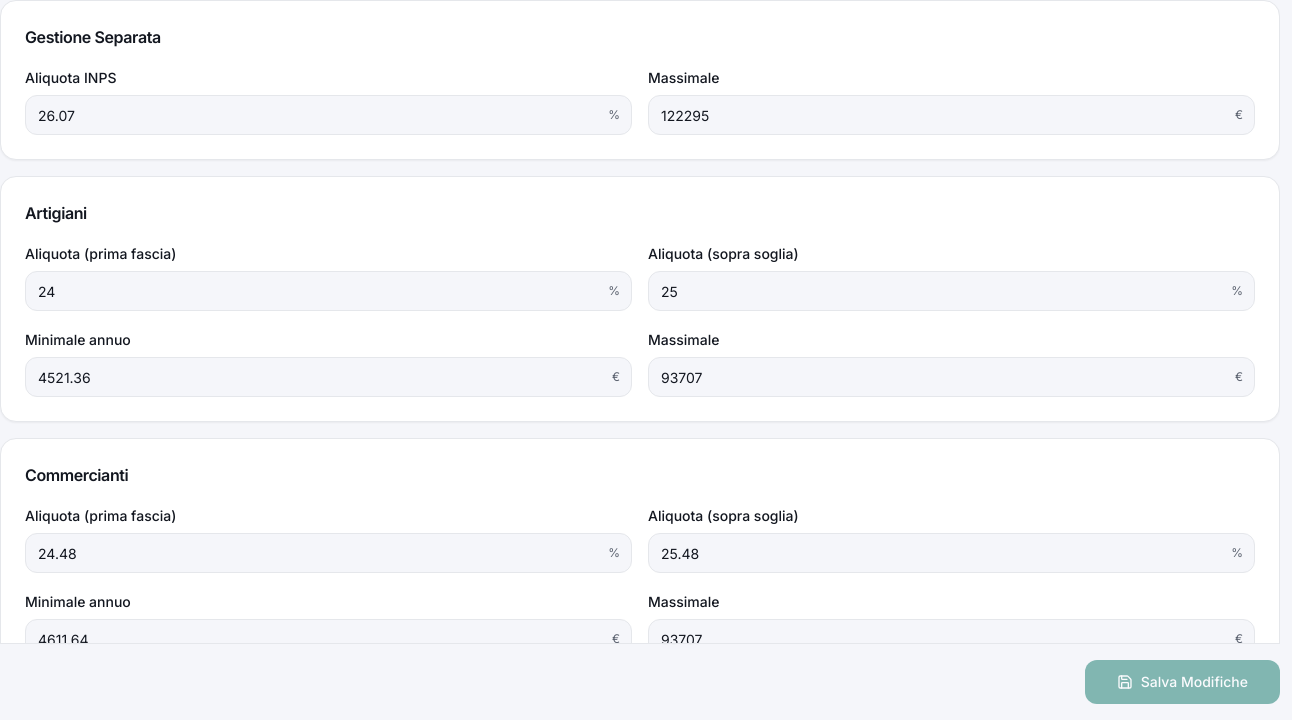
Test: FiscalRulesForm › resetta dirty state dopo salvataggio riuscito
Note: Rendi dirty il form
Replace the text in the field labelled "Aliquota INPS" with "27.00" at (328, 115), box [25,95,632,135]
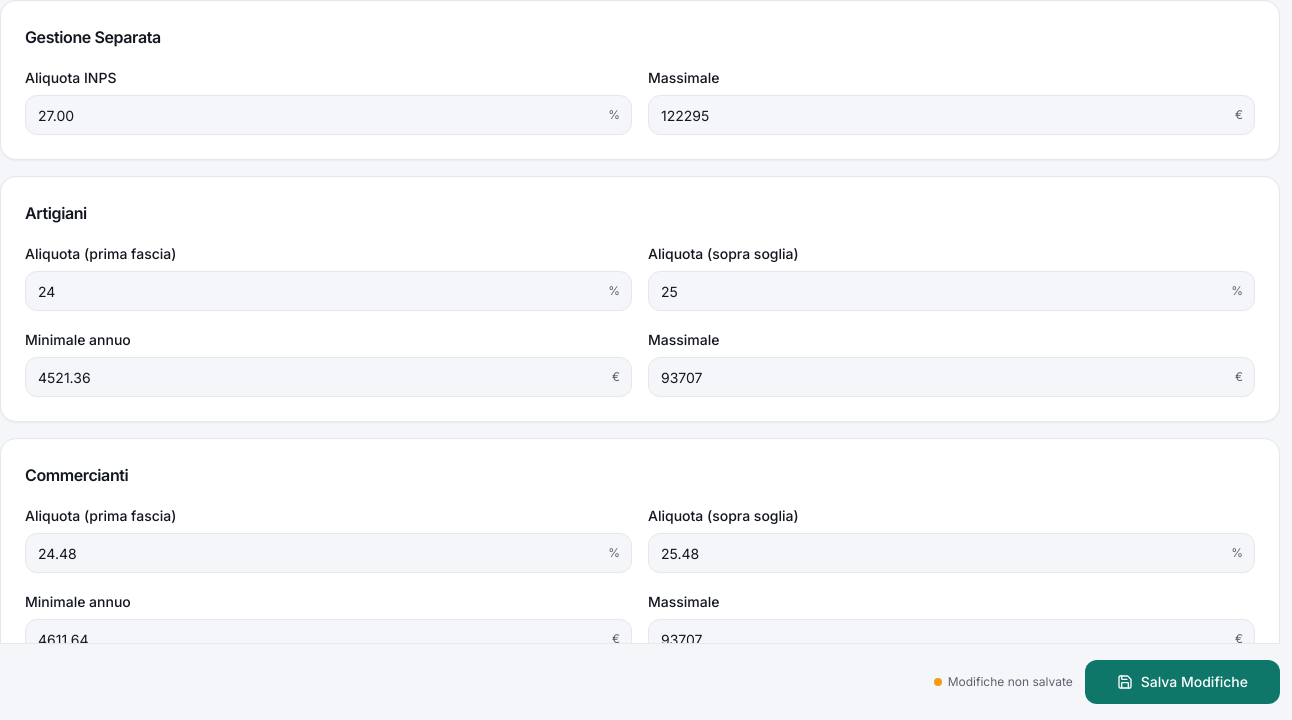
Check: the text "Modifiche non salvate" is shown, box [934,674,1073,690]
Check: the button "Salva Modifiche" is enabled
Click the button "Salva Modifiche" at (1182, 682), box [1085,660,1280,704]
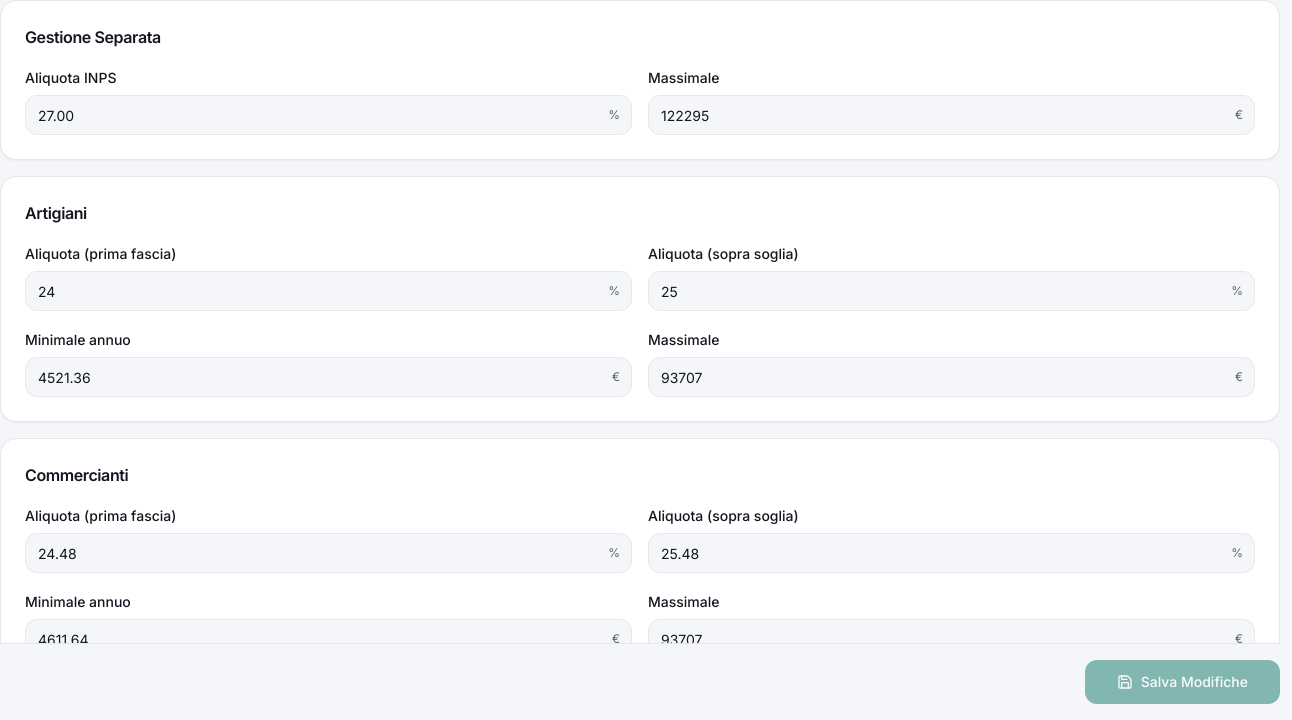
Check: the text "Modifiche non salvate" is gone
Check: the button "Salva Modifiche" is disabled, box [1085,660,1280,704]
